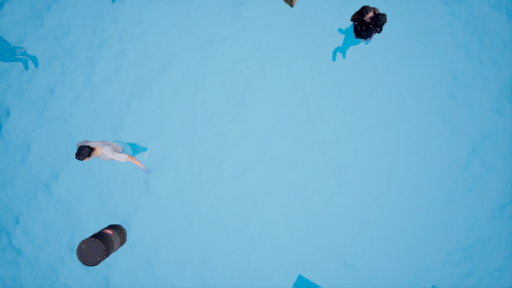person: (327, 2, 389, 71), (75, 137, 154, 178)
